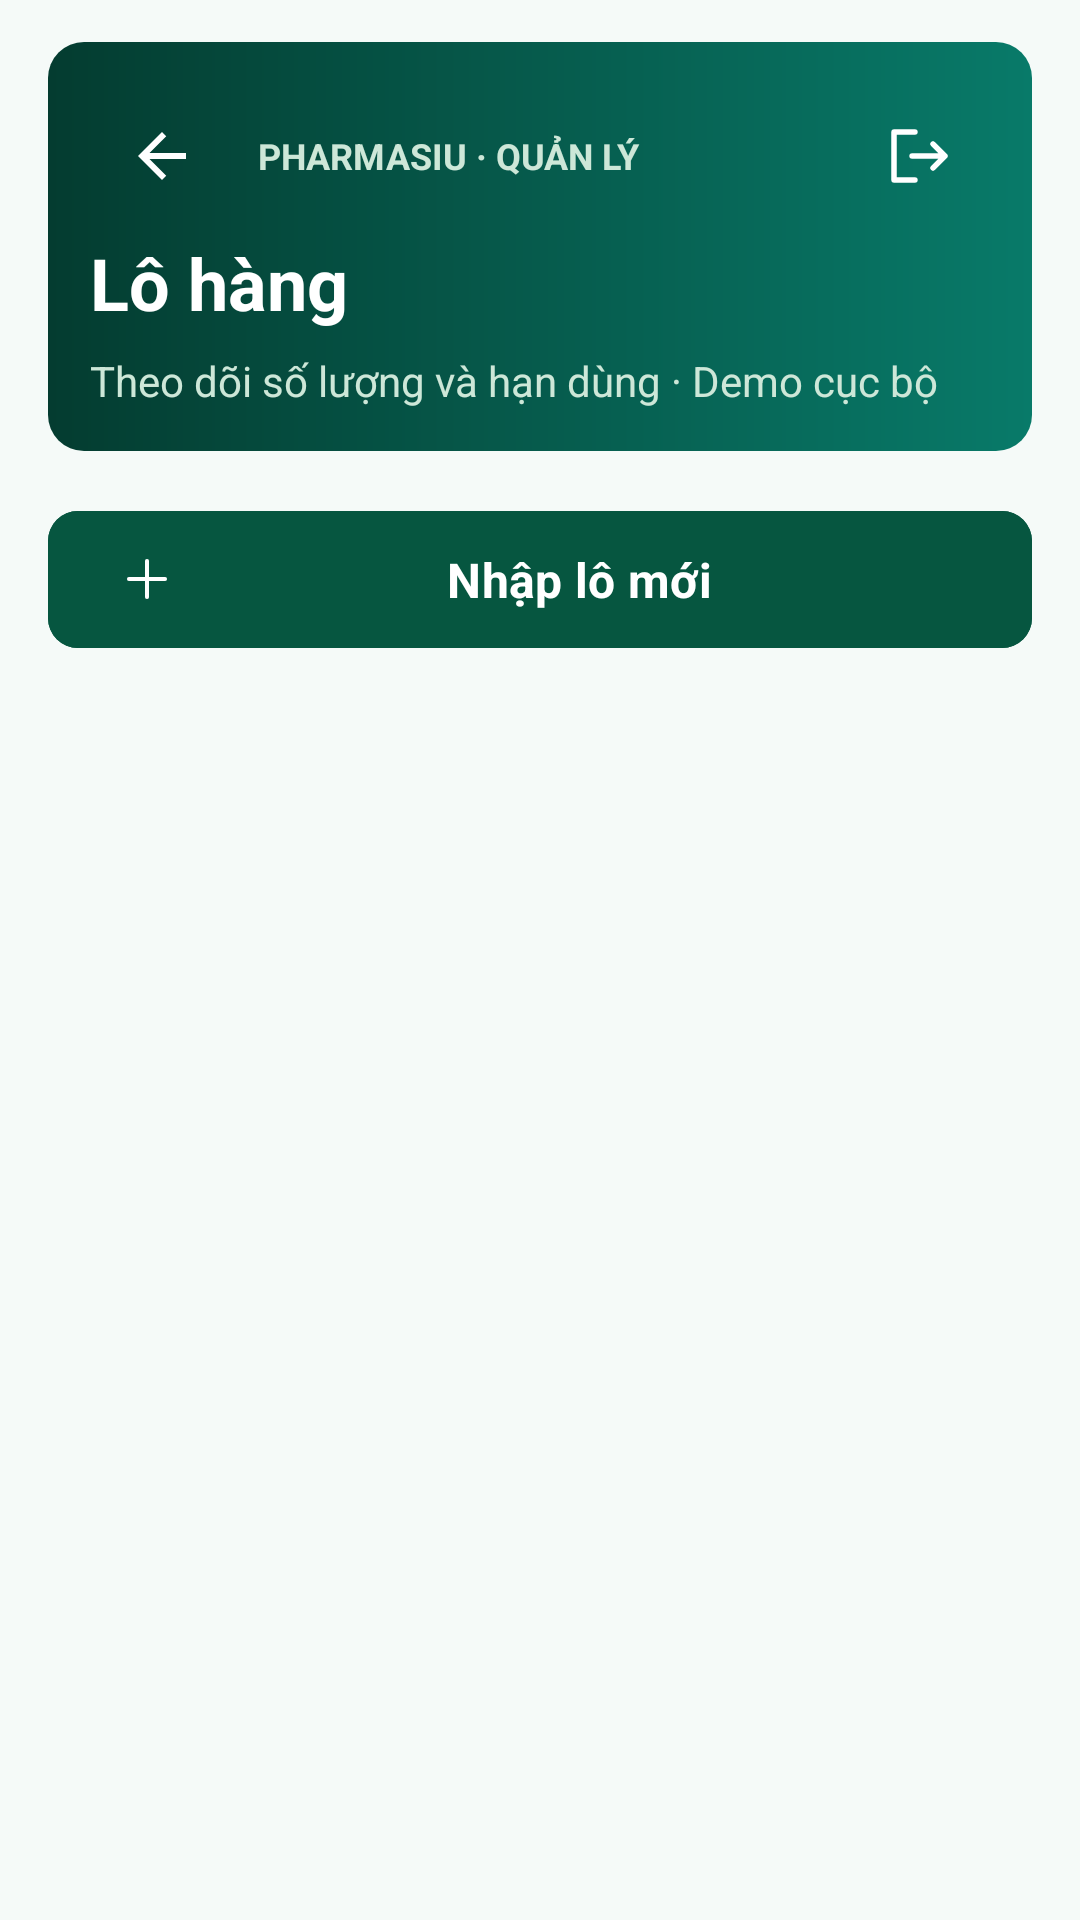

Point at icon controls on the screen. Image size 1080w x 1920h, points as (x,y).
Về tổng quan quản lý: (162,156)
